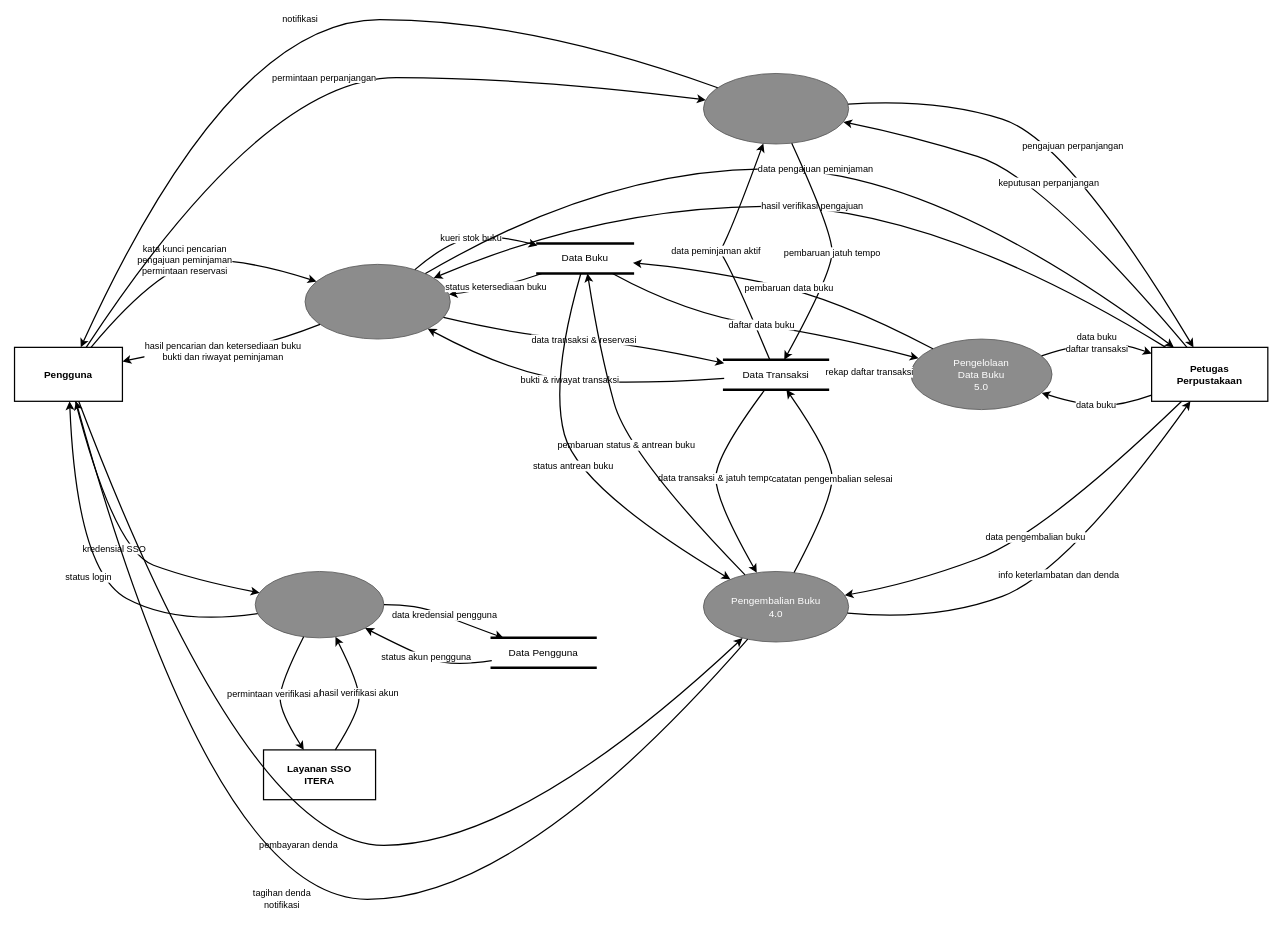
The diagram is 1283 pixels wide and 925 high, and some of its shapes have lost their labels. Each missing label, with the centre of its shape:
"Login SSO 1.0" belongs at point 319,604.
"Peminjaman & Reservasi Buku 2.0" belongs at point 377,301.
"Perpanjangan Peminjaman 3.0" belongs at point 776,108.
